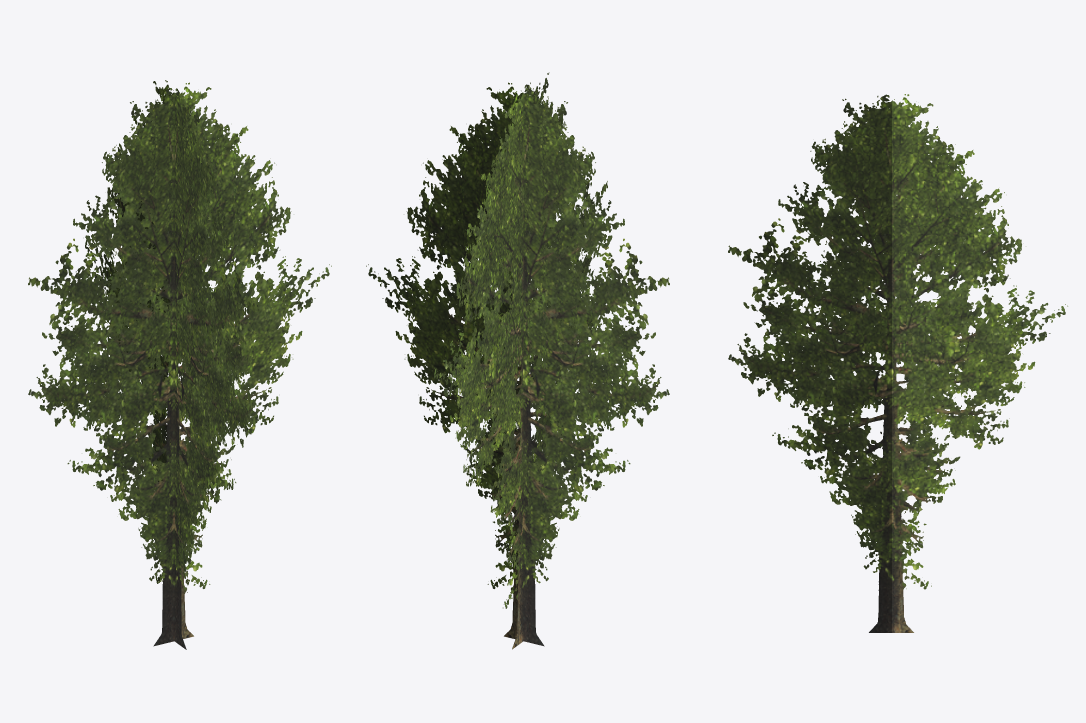
The model's file is American_Sycamore_Fan_0.obj.
The picture shows the model from 3 angles, left to right: view 1: azimuth 30°, elevation 25°; view 2: azimuth 150°, elevation 25°; view 3: azimuth 270°, elevation 25°; orthographic projection. The views are drawn at different scales.
Parts seen in each view (by area): view 1: CreateFan; view 2: CreateFan; view 3: CreateFan.
Part boxes in pixels (x1,y1,x2,y2): CreateFan: (28,80,331,649); CreateFan: (366,72,669,649); CreateFan: (728,94,1067,632).
Bounding box in the file's own units: 18.01 × 30 × 18.01.
Materials: 1 (1 with a texture image).
